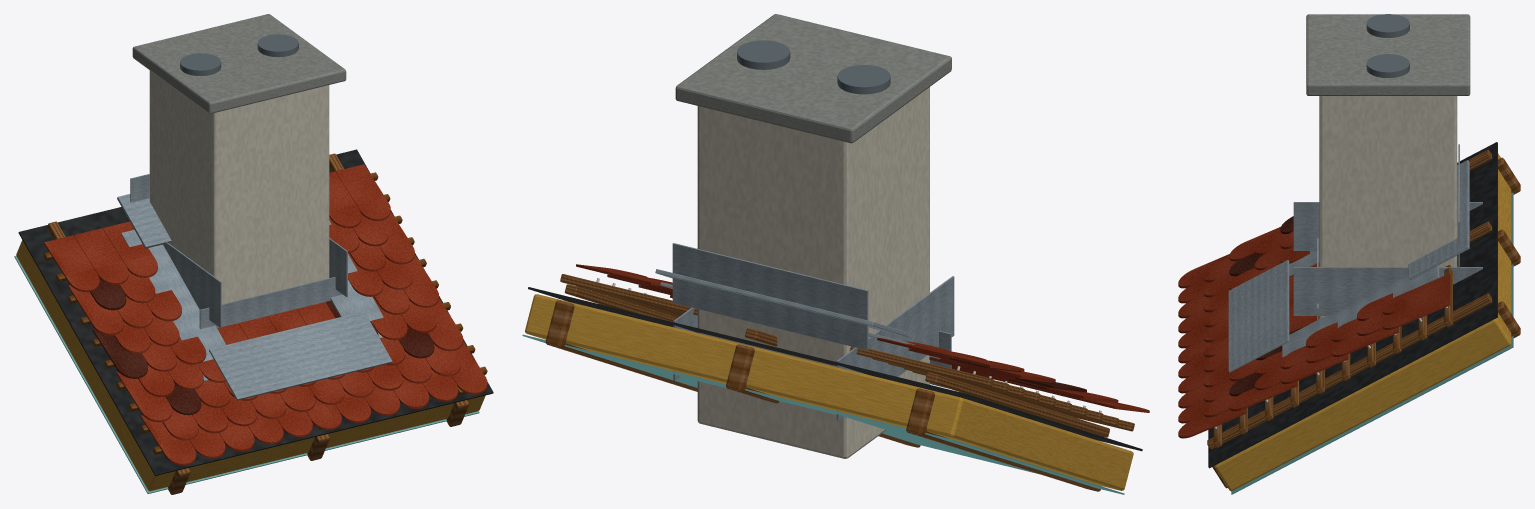
The model's file is modell.glb.
3 renders of one model, left to right at view 1: azimuth 30°, elevation 25°; view 2: azimuth 150°, elevation 25°; view 3: azimuth 270°, elevation 25°, orthographic. The views are drawn at different scales.
Visible parts, largest first — view 1: s08-deckziegel_deckung, s08-schornstein_, s08-vorderteil_deckung, s08-schornstein_.001, s08-zusatzebene_zusatzebene, s08-daemmung_daemmung, s08-seitenteil_deckung, s08-deckziegel_deckung.001, s08-rueckenteil_deckung, s08-lattung_lattung, s08-schornstein_.002, s08-luftdichtheit_luftdichtheit (+1 smaller); view 2: s08-schornstein_, s08-daemmung_daemmung, s08-schornstein_.001, s08-rueckenteil_deckung, s08-lattung_lattung, s08-seitenteil_deckung, s08-sparren_tragwerk, s08-deckziegel_deckung, s08-luftdichtheit_luftdichtheit, s08-zusatzebene_zusatzebene, s08-schornstein_.002; view 3: s08-schornstein_, s08-deckziegel_deckung, s08-schornstein_.001, s08-daemmung_daemmung, s08-zusatzebene_zusatzebene, s08-seitenteil_deckung, s08-vorderteil_deckung, s08-lattung_lattung, s08-rueckenteil_deckung, s08-schornstein_.002, s08-luftdichtheit_luftdichtheit, s08-sparren_tragwerk (+1 smaller).
Part boxes in pixels (box(x1,y1,x2,y2)): s08-deckziegel_deckung: box(44, 164, 487, 465); s08-schornstein_: box(149, 70, 329, 304); s08-vorderteil_deckung: box(199, 277, 392, 400); s08-schornstein_.001: box(132, 14, 346, 113); s08-zusatzebene_zusatzebene: box(18, 149, 493, 475); s08-daemmung_daemmung: box(16, 240, 485, 491); s08-seitenteil_deckung: box(121, 221, 383, 381); s08-deckziegel_deckung.001: box(90, 278, 434, 415); s08-rueckenteil_deckung: box(117, 174, 171, 248); s08-lattung_lattung: box(43, 153, 487, 455); s08-schornstein_.002: box(180, 34, 298, 75); s08-luftdichtheit_luftdichtheit: box(14, 256, 479, 493); s08-schornstein_: box(697, 87, 929, 458); s08-daemmung_daemmung: box(525, 294, 1133, 490); s08-schornstein_.001: box(675, 14, 951, 143); s08-rueckenteil_deckung: box(655, 243, 909, 350); s08-lattung_lattung: box(560, 274, 1134, 437); s08-seitenteil_deckung: box(660, 276, 954, 420); s08-sparren_tragwerk: box(545, 300, 1101, 491); s08-deckziegel_deckung: box(576, 264, 1149, 412); s08-luftdichtheit_luftdichtheit: box(522, 334, 1124, 494); s08-zusatzebene_zusatzebene: box(528, 287, 1142, 451); s08-schornstein_.002: box(737, 40, 890, 94); s08-schornstein_: box(1319, 96, 1457, 318); s08-deckziegel_deckung: box(1178, 227, 1450, 438); s08-schornstein_.001: box(1306, 14, 1470, 95); s08-daemmung_daemmung: box(1214, 153, 1511, 491); s08-zusatzebene_zusatzebene: box(1208, 142, 1497, 468); s08-seitenteil_deckung: box(1262, 202, 1482, 360); s08-vorderteil_deckung: box(1228, 238, 1318, 372); s08-lattung_lattung: box(1207, 149, 1492, 449); s08-rueckenteil_deckung: box(1408, 144, 1469, 279); s08-schornstein_.002: box(1366, 14, 1409, 77); s08-luftdichtheit_luftdichtheit: box(1231, 192, 1513, 494); s08-sparren_tragwerk: box(1212, 157, 1520, 488).
Bounding box in the file's own units: 2.09 × 2.08 × 1.74.
Materials: 11 (8 with a texture image).
